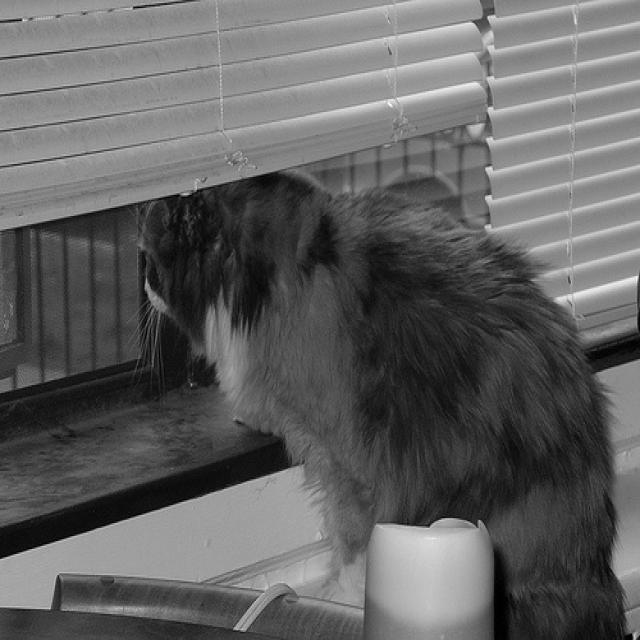cat: (145, 161, 622, 638)
